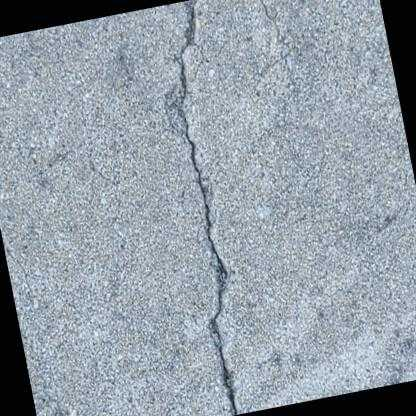crack: (174, 0, 239, 415)
